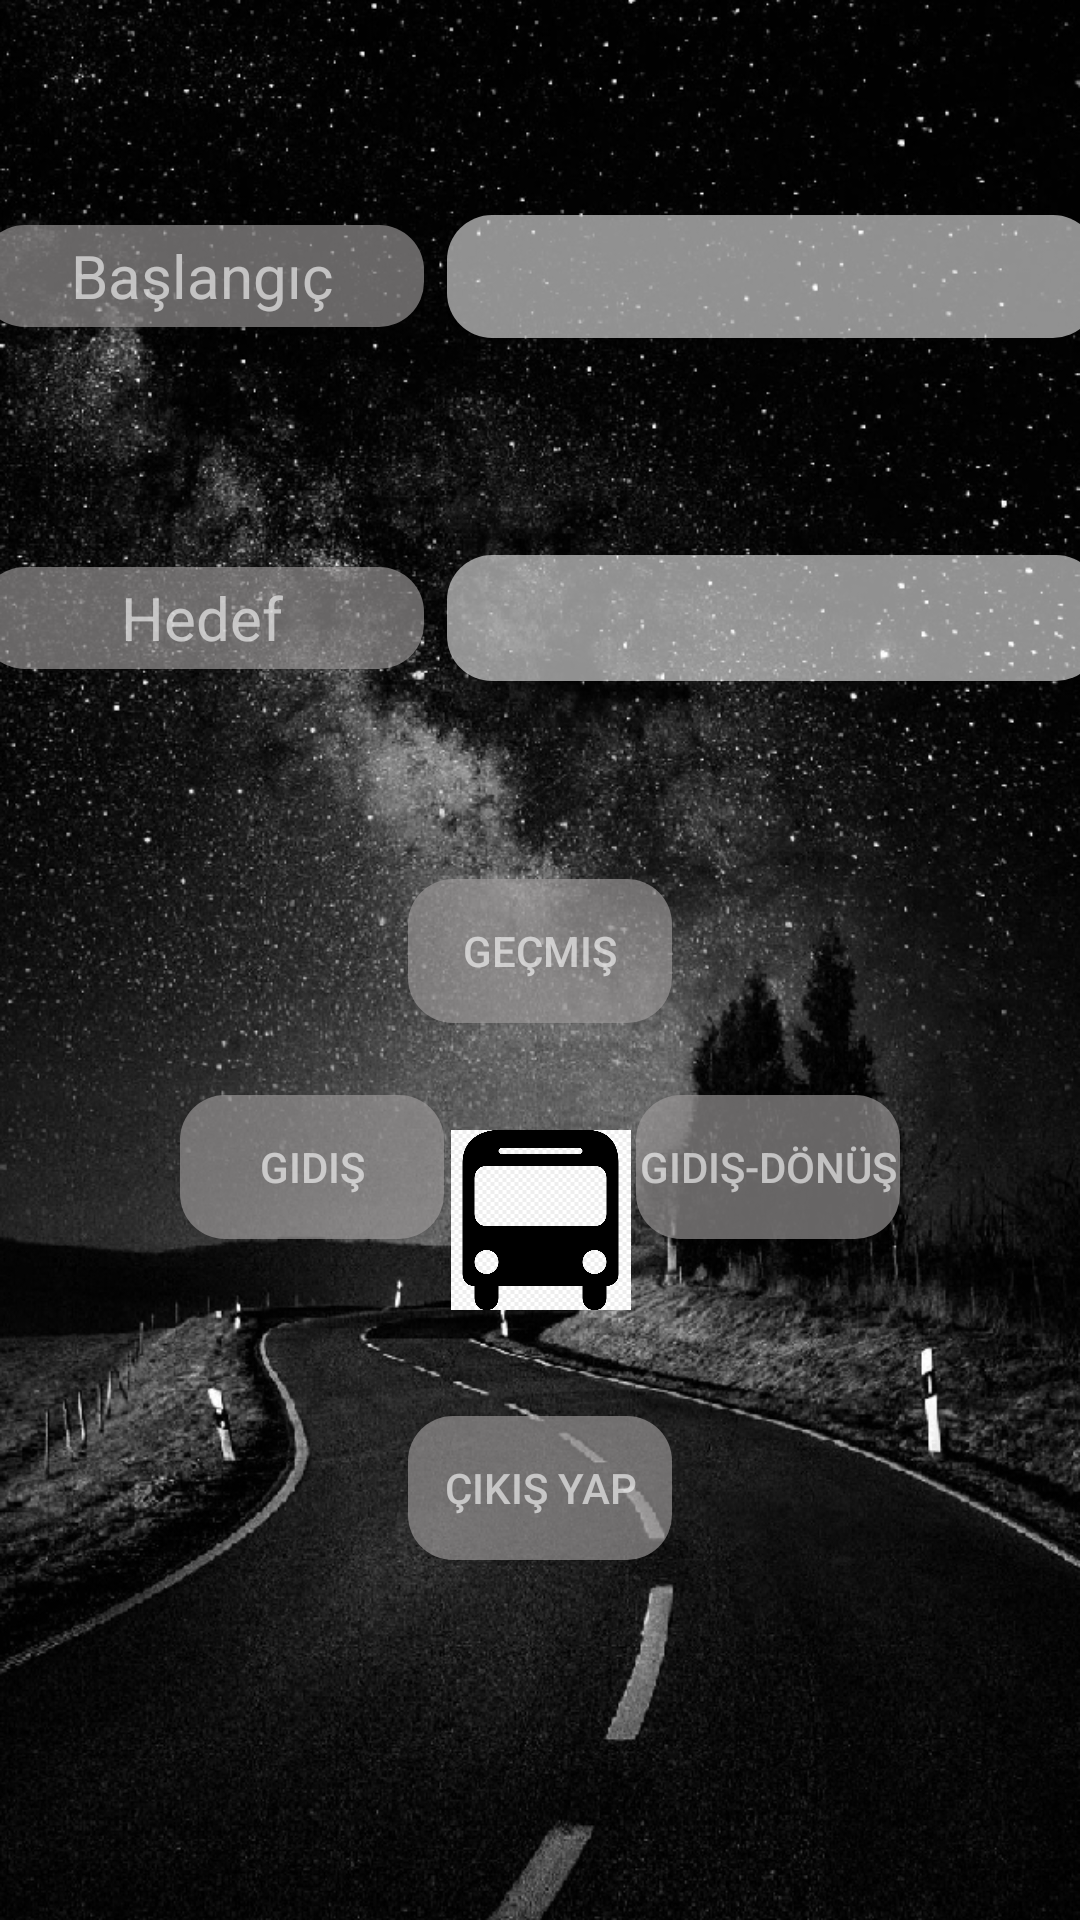

Point at icon controls on the screen. Image size 1080px x 1920px, points as point (x, y).
bus: point (540, 1220)
